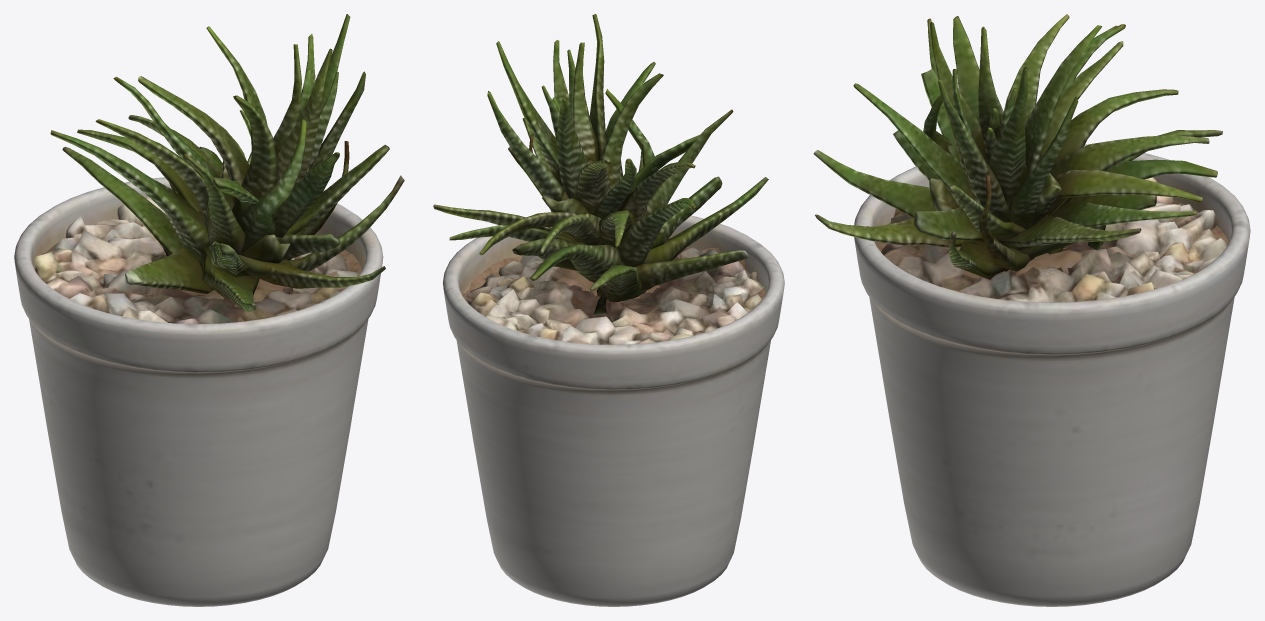
Rendered from polyhaven-potted-plant-04.glb.
3 renders of one model, left to right at view 1: azimuth 30°, elevation 25°; view 2: azimuth 150°, elevation 25°; view 3: azimuth 270°, elevation 25°, orthographic. The views are drawn at different scales.
Visible parts, largest first — view 1: potted_plant_04_pot, potted_plant_04_plant, potted_plant_04_ground, potted_plant_04_dirt; view 2: potted_plant_04_pot, potted_plant_04_plant, potted_plant_04_ground, potted_plant_04_dirt; view 3: potted_plant_04_pot, potted_plant_04_plant, potted_plant_04_ground, potted_plant_04_dirt.
Part boxes in pixels (x1,y1,x2,y2): potted_plant_04_pot: [14, 177, 383, 606]; potted_plant_04_plant: [50, 14, 404, 311]; potted_plant_04_ground: [34, 196, 357, 323]; potted_plant_04_dirt: [34, 238, 362, 307]; potted_plant_04_pot: [443, 215, 784, 606]; potted_plant_04_plant: [433, 14, 768, 314]; potted_plant_04_ground: [463, 247, 765, 344]; potted_plant_04_dirt: [462, 247, 765, 306]; potted_plant_04_pot: [854, 144, 1250, 606]; potted_plant_04_plant: [813, 14, 1222, 279]; potted_plant_04_ground: [881, 177, 1227, 302]; potted_plant_04_dirt: [875, 200, 1228, 297].
Size of the model in its own units: 0.1679 by 0.2675 by 0.1848.
Materials: 1 (1 with a texture image).
